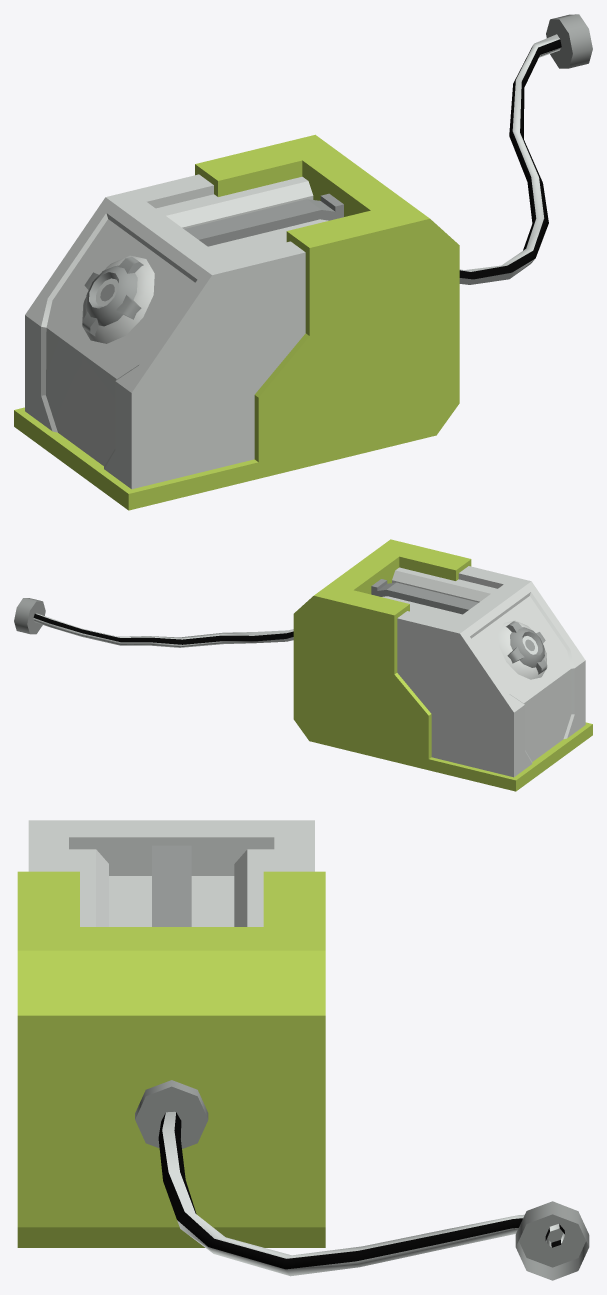
3 renders of one model, top to bottom at view 1: azimuth 30°, elevation 25°; view 2: azimuth 150°, elevation 25°; view 3: azimuth 270°, elevation 25°, orthographic. The views are drawn at different scales.
Parts seen in each view (by area): view 1: G:\FFXIV-MapTools\exports\x6t1\bg\ex5\01_xkt_x6\twn\x6t1\bgp (×3); view 2: G:\FFXIV-MapTools\exports\x6t1\bg\ex5\01_xkt_x6\twn\x6t1\bgp (×3); view 3: G:\FFXIV-MapTools\exports\x6t1\bg\ex5\01_xkt_x6\twn\x6t1\bgp (×3).
Boxes of the visible parts, left/top/right/bottom form: G:\FFXIV-MapTools\exports\x6t1\bg\ex5\01_xkt_x6\twn\x6t1\bgp (×3): left=14, top=14, right=592, bottom=510; G:\FFXIV-MapTools\exports\x6t1\bg\ex5\01_xkt_x6\twn\x6t1\bgp (×3): left=14, top=539, right=592, bottom=791; G:\FFXIV-MapTools\exports\x6t1\bg\ex5\01_xkt_x6\twn\x6t1\bgp (×3): left=17, top=820, right=589, bottom=1280.
Size of the model in its own units: 1.87 by 0.6001 by 1.06.
